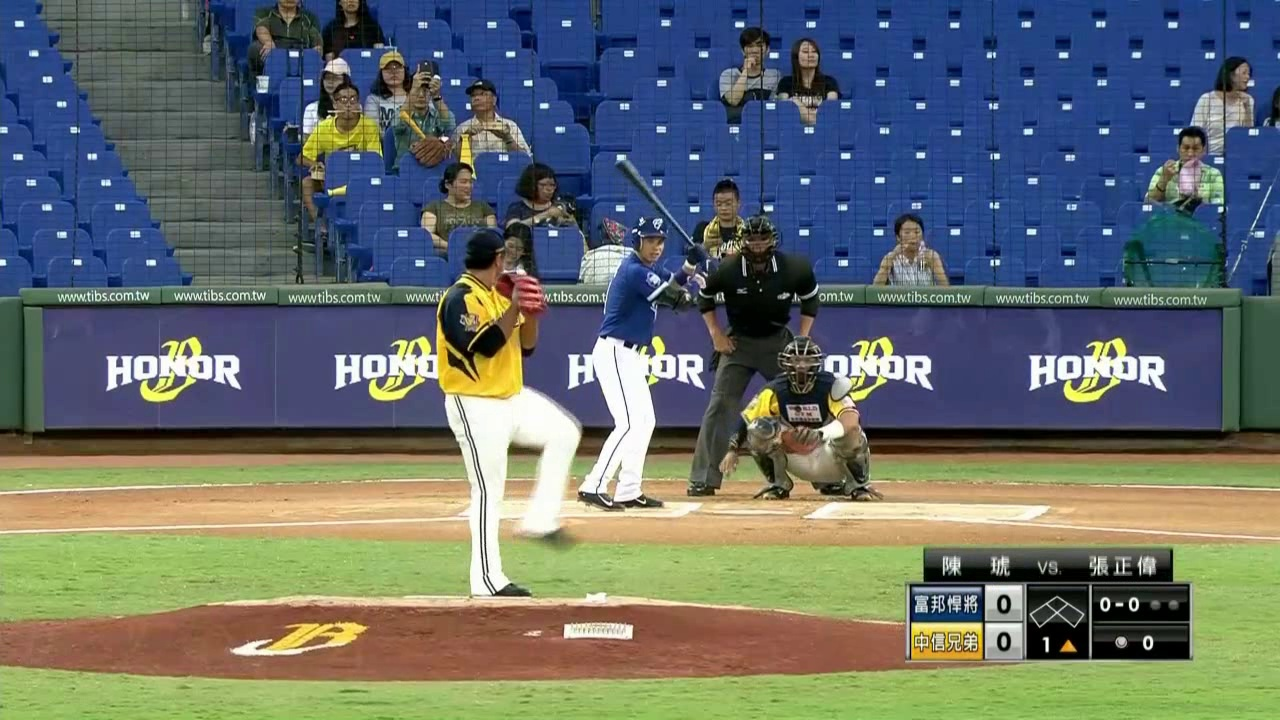ball: (512, 286, 517, 302)
base: (1028, 588, 1087, 631)
bat: (616, 151, 698, 252)
out: (1147, 591, 1187, 616)
score1: (988, 586, 1021, 621)
score2: (991, 628, 1018, 654)
session: (1030, 634, 1085, 657)
strikeball: (1091, 587, 1145, 619)
total: (1111, 628, 1163, 655)
